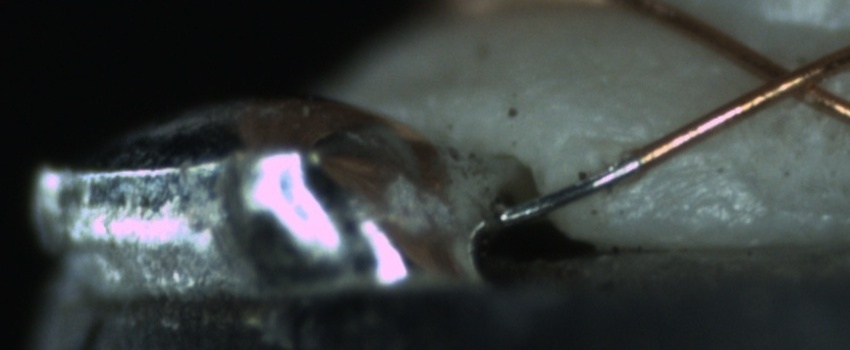CL: (739, 43, 842, 112)
DL: (563, 118, 706, 168)
TS: (495, 155, 641, 225)
